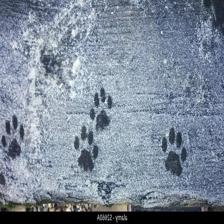cat: (158, 128, 193, 177), (71, 127, 104, 174), (0, 114, 28, 159), (88, 84, 114, 130)
